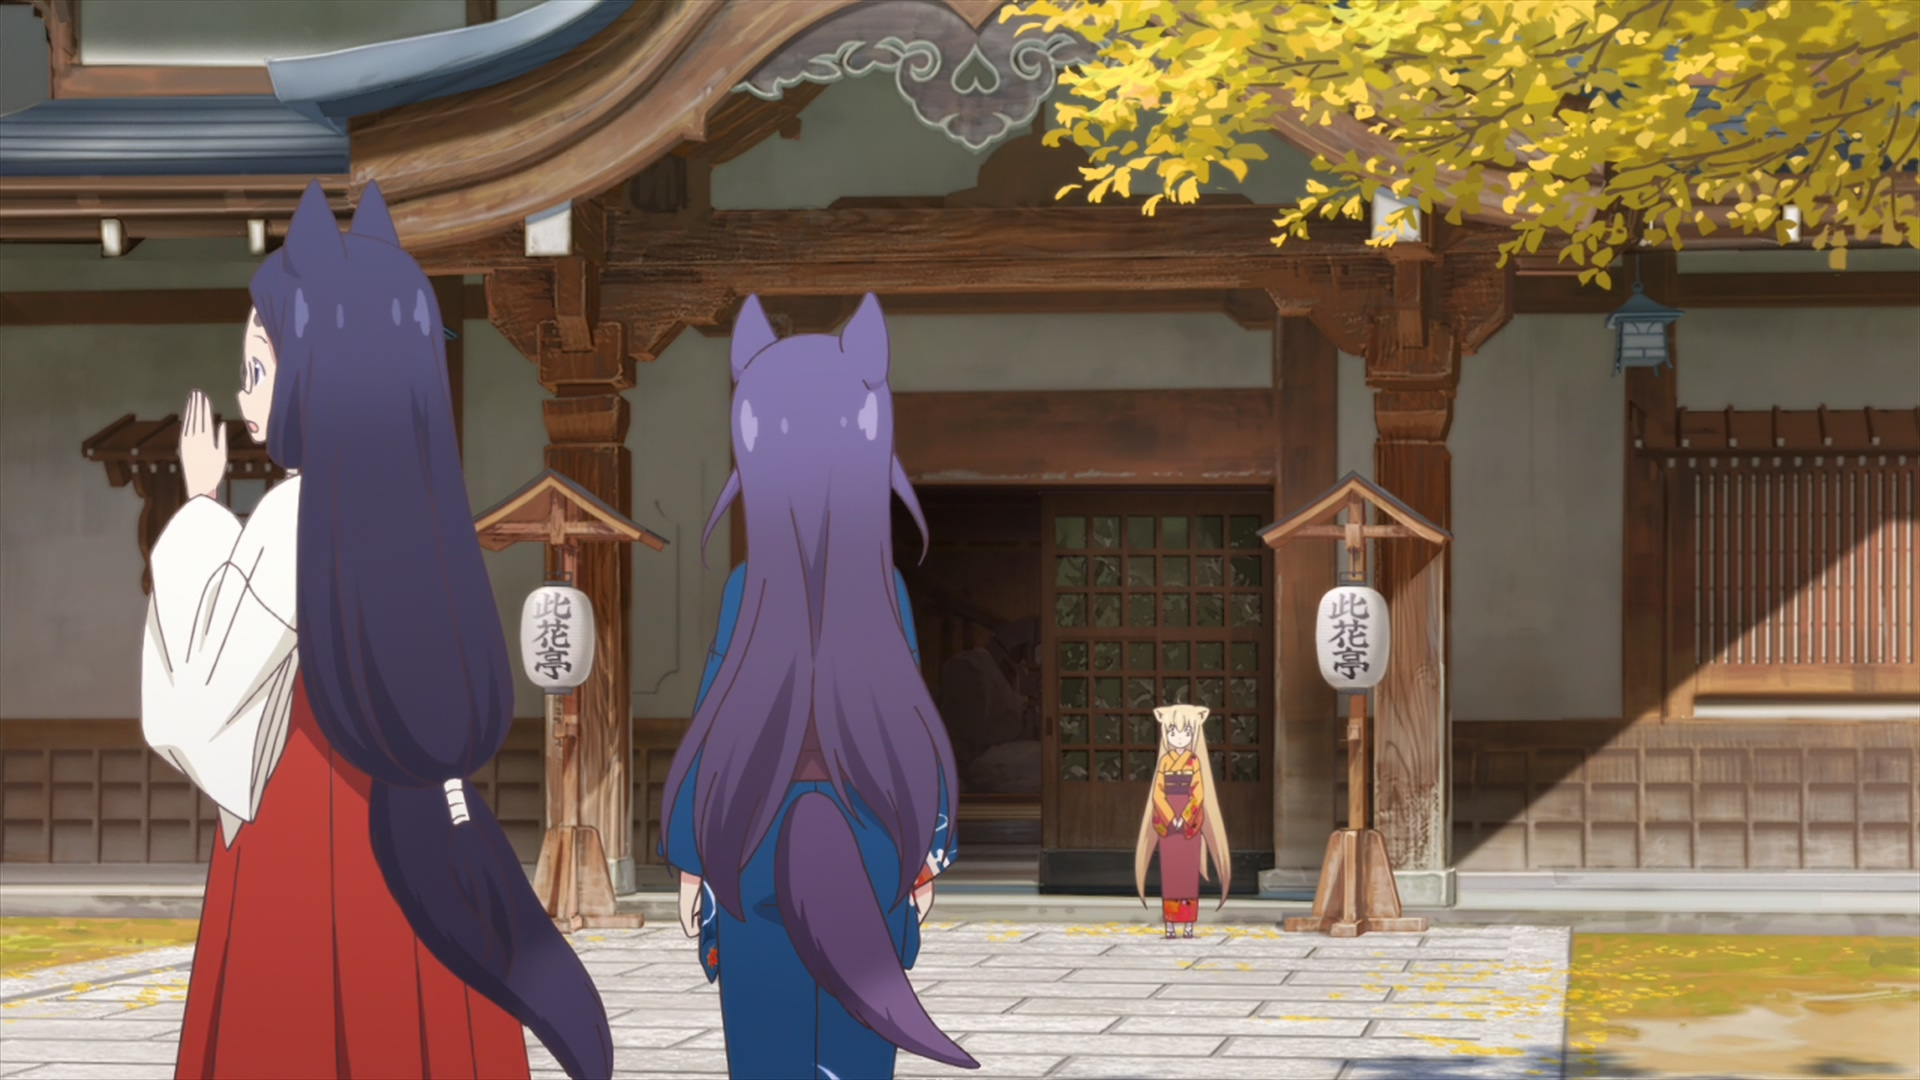柚: (1133, 694, 1230, 938)
皋: (661, 291, 981, 1080)
菖: (142, 179, 612, 1080)
